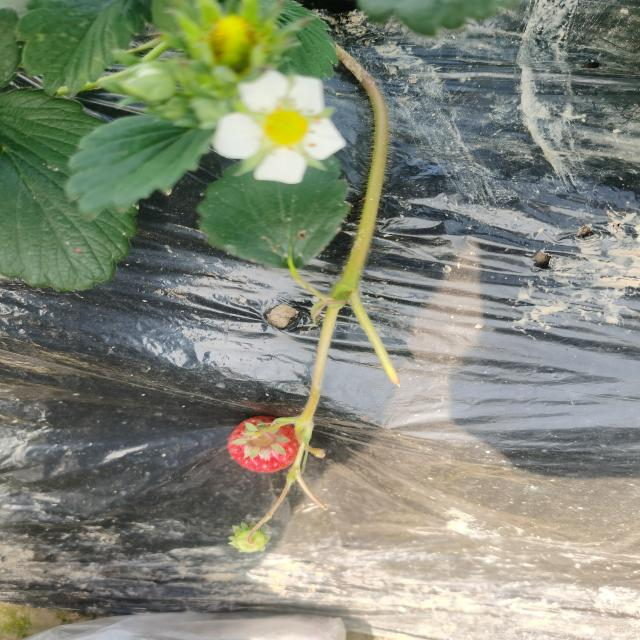strawberry: (228, 416, 300, 472)
